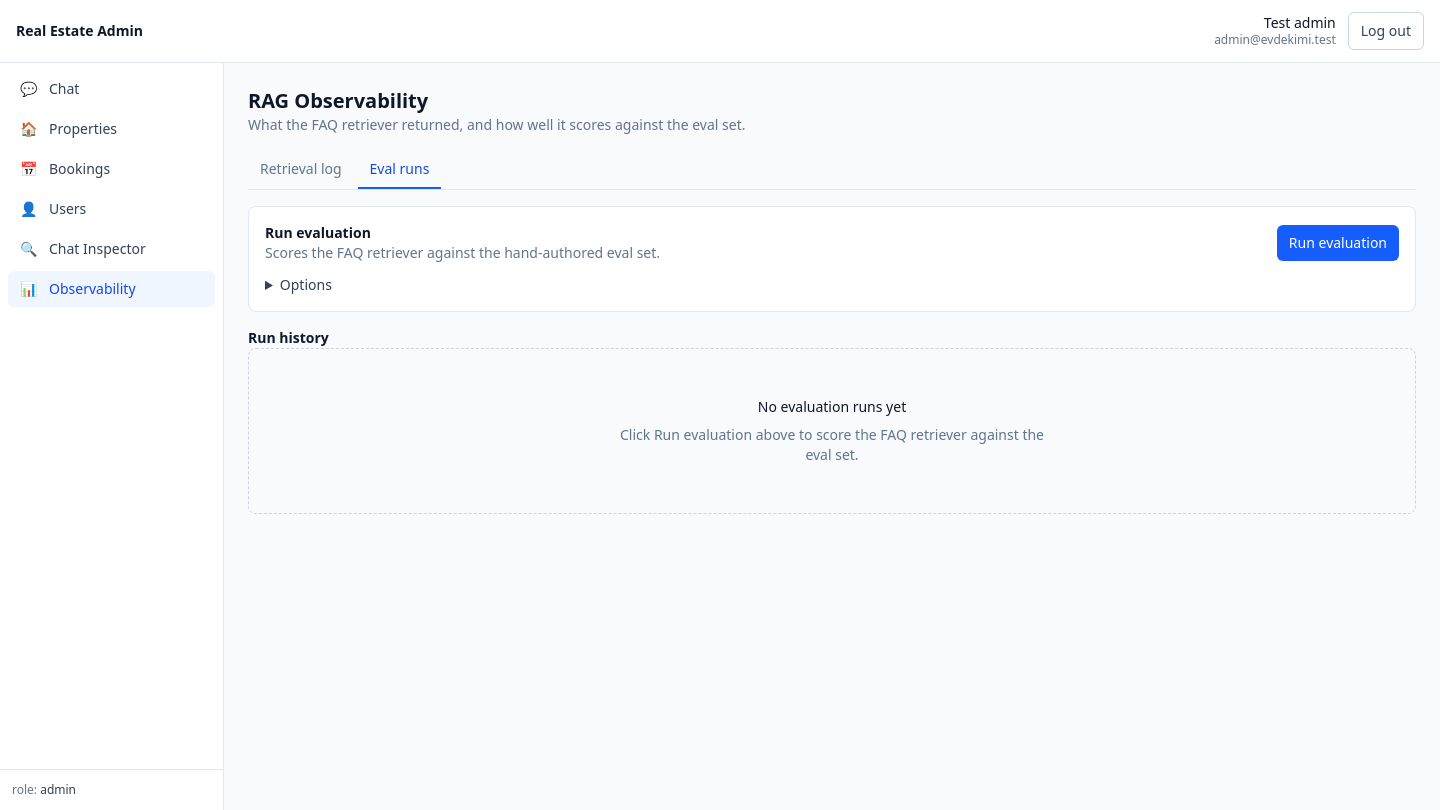
Test: ObservabilityPage eval runs tab › tells the admin to reindex when the FAQ index has no rows
The width and height of the screenshot is (1440, 810).
Click the button "Run evaluation": (1338, 243) [1277,225,1399,261]
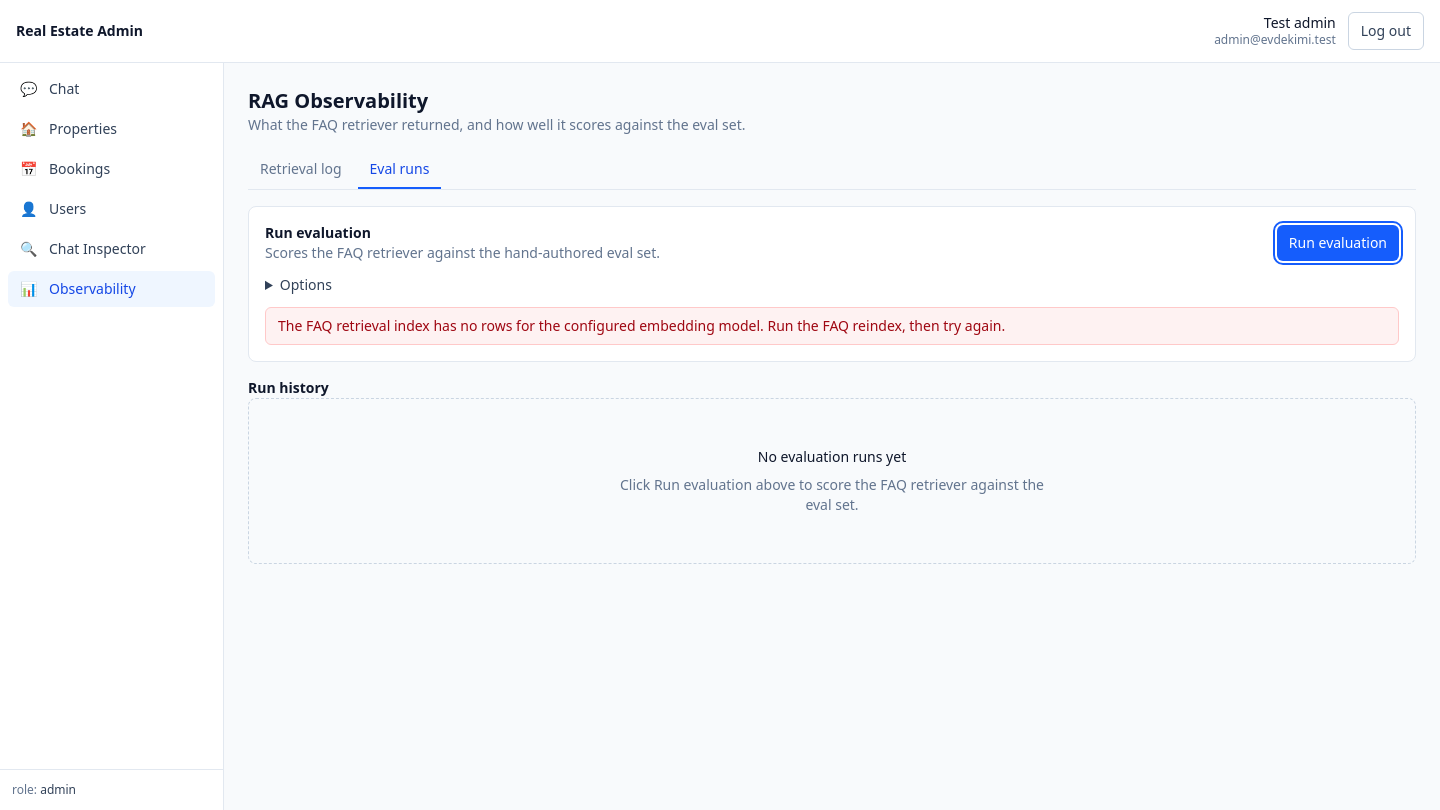
Expected: the message shows "Run the FAQ reindex, then try again.", [764,316,1005,335]
